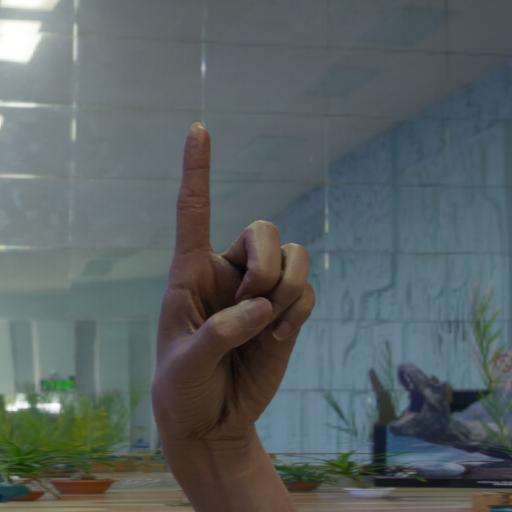D: (140, 117, 337, 512)
